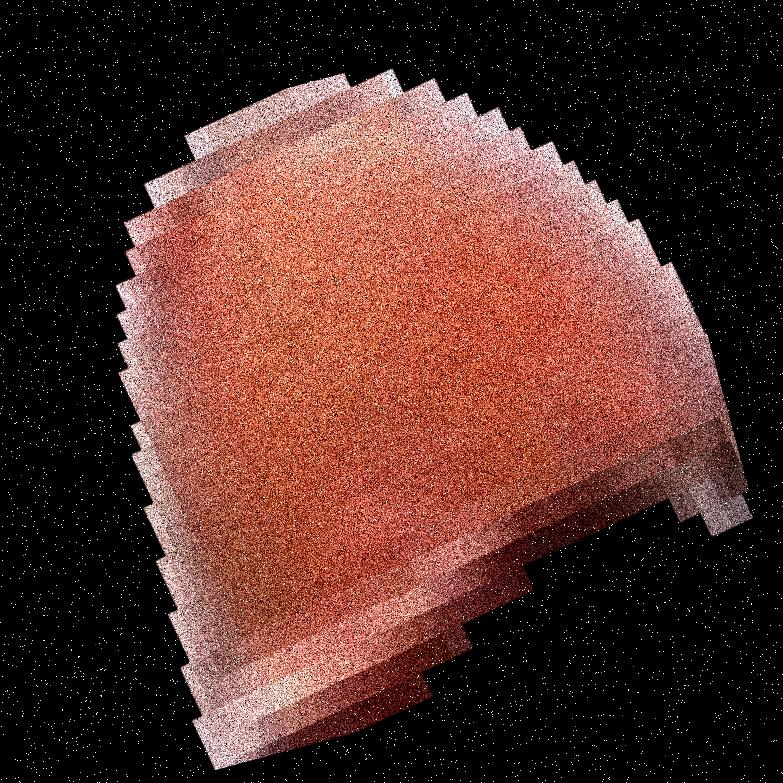Capacete: (236, 0, 460, 782)
